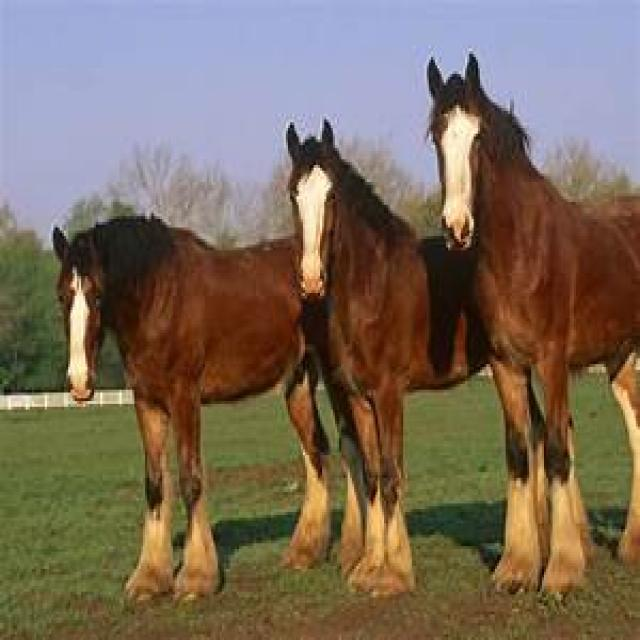horse: (430, 55, 640, 592), (55, 217, 328, 599), (289, 122, 488, 594)
